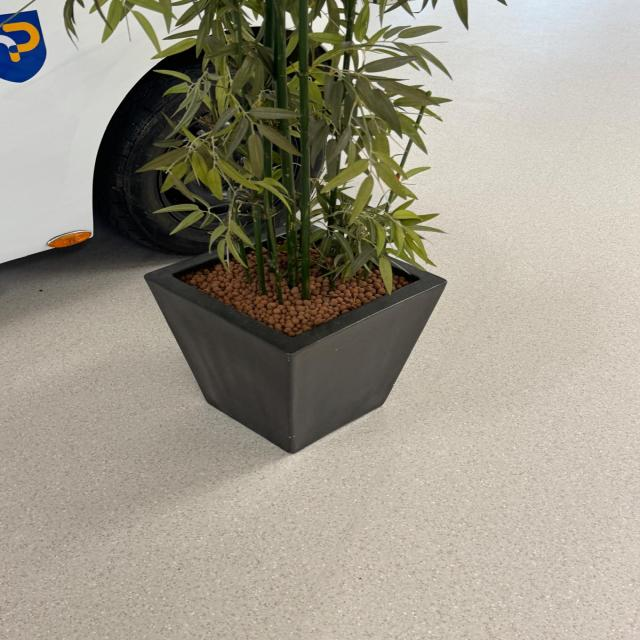Pot: (141, 218, 450, 455)
